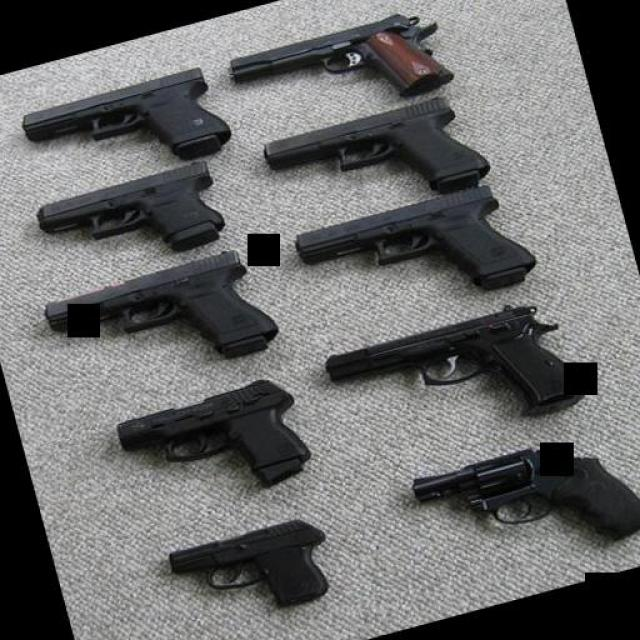gun: (315, 287, 587, 463), (288, 172, 538, 336), (404, 416, 640, 586), (105, 368, 316, 520), (159, 510, 341, 636)
